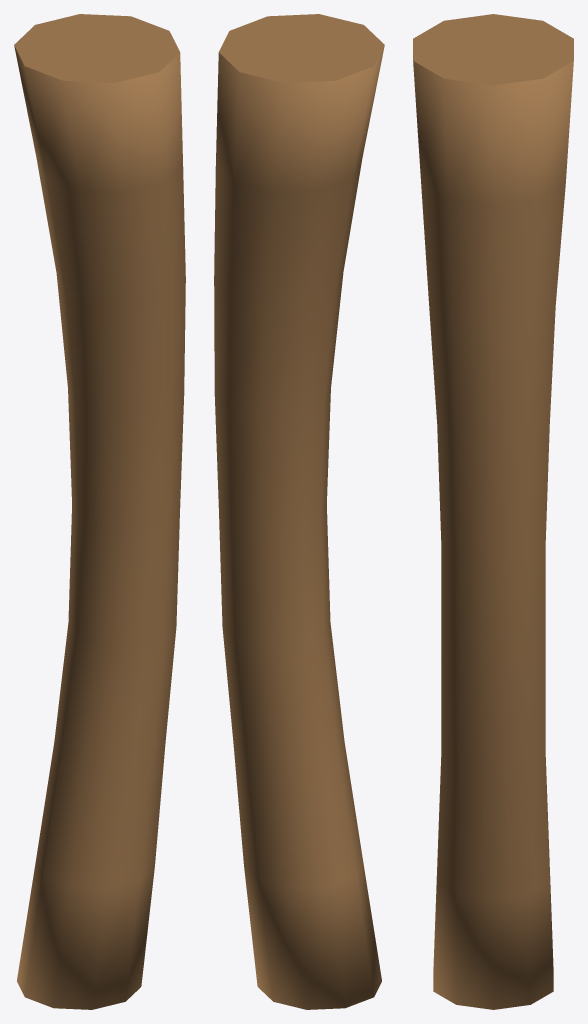
Rendered from handle.glb.
3 views of the same model, side by side, from view 1: azimuth 30°, elevation 25°; view 2: azimuth 150°, elevation 25°; view 3: azimuth 270°, elevation 25° (orthographic).
Visible parts, largest first — view 1: RecoveredHandle; view 2: RecoveredHandle; view 3: RecoveredHandle.
Boxes of the visible parts, bbox=[...] form: RecoveredHandle: bbox=[14, 14, 185, 1009]; RecoveredHandle: bbox=[214, 14, 384, 1009]; RecoveredHandle: bbox=[413, 14, 573, 1009].
Bounding box in the file's own units: 0.2297 × 1.35 × 0.208.
